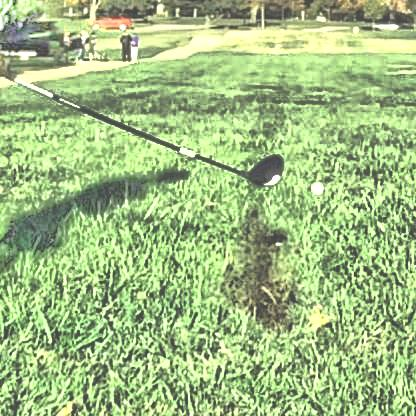golfball: (307, 177, 321, 192)
